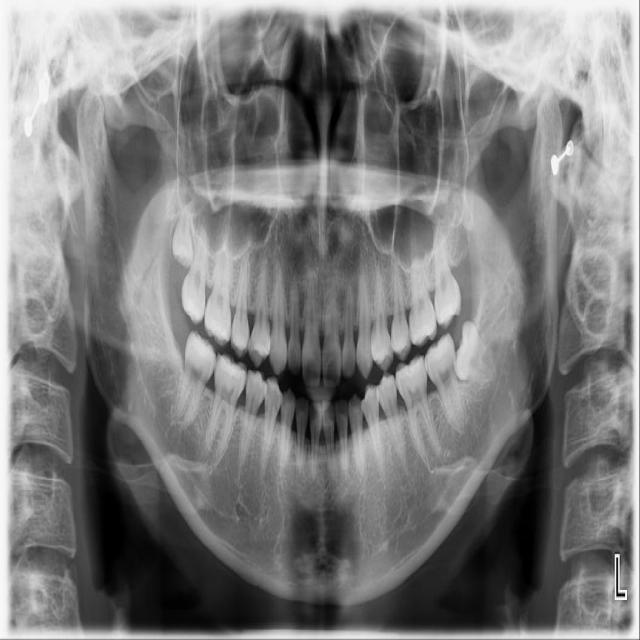Root Canal Treatment: (581, 583, 584, 589)
impacted tooth: (453, 321, 499, 382), (170, 201, 197, 267)
